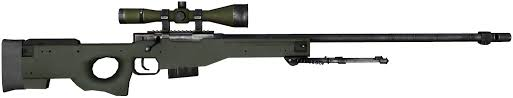gun: (1, 0, 511, 96)
